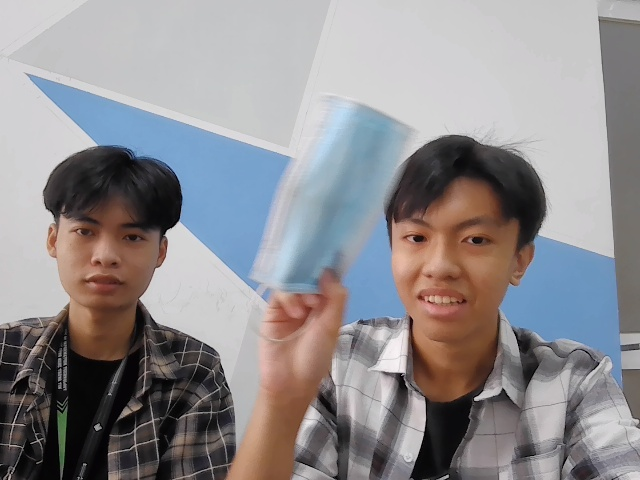human: (386, 134, 548, 349), (41, 146, 187, 311)
mask: (236, 80, 406, 309)
